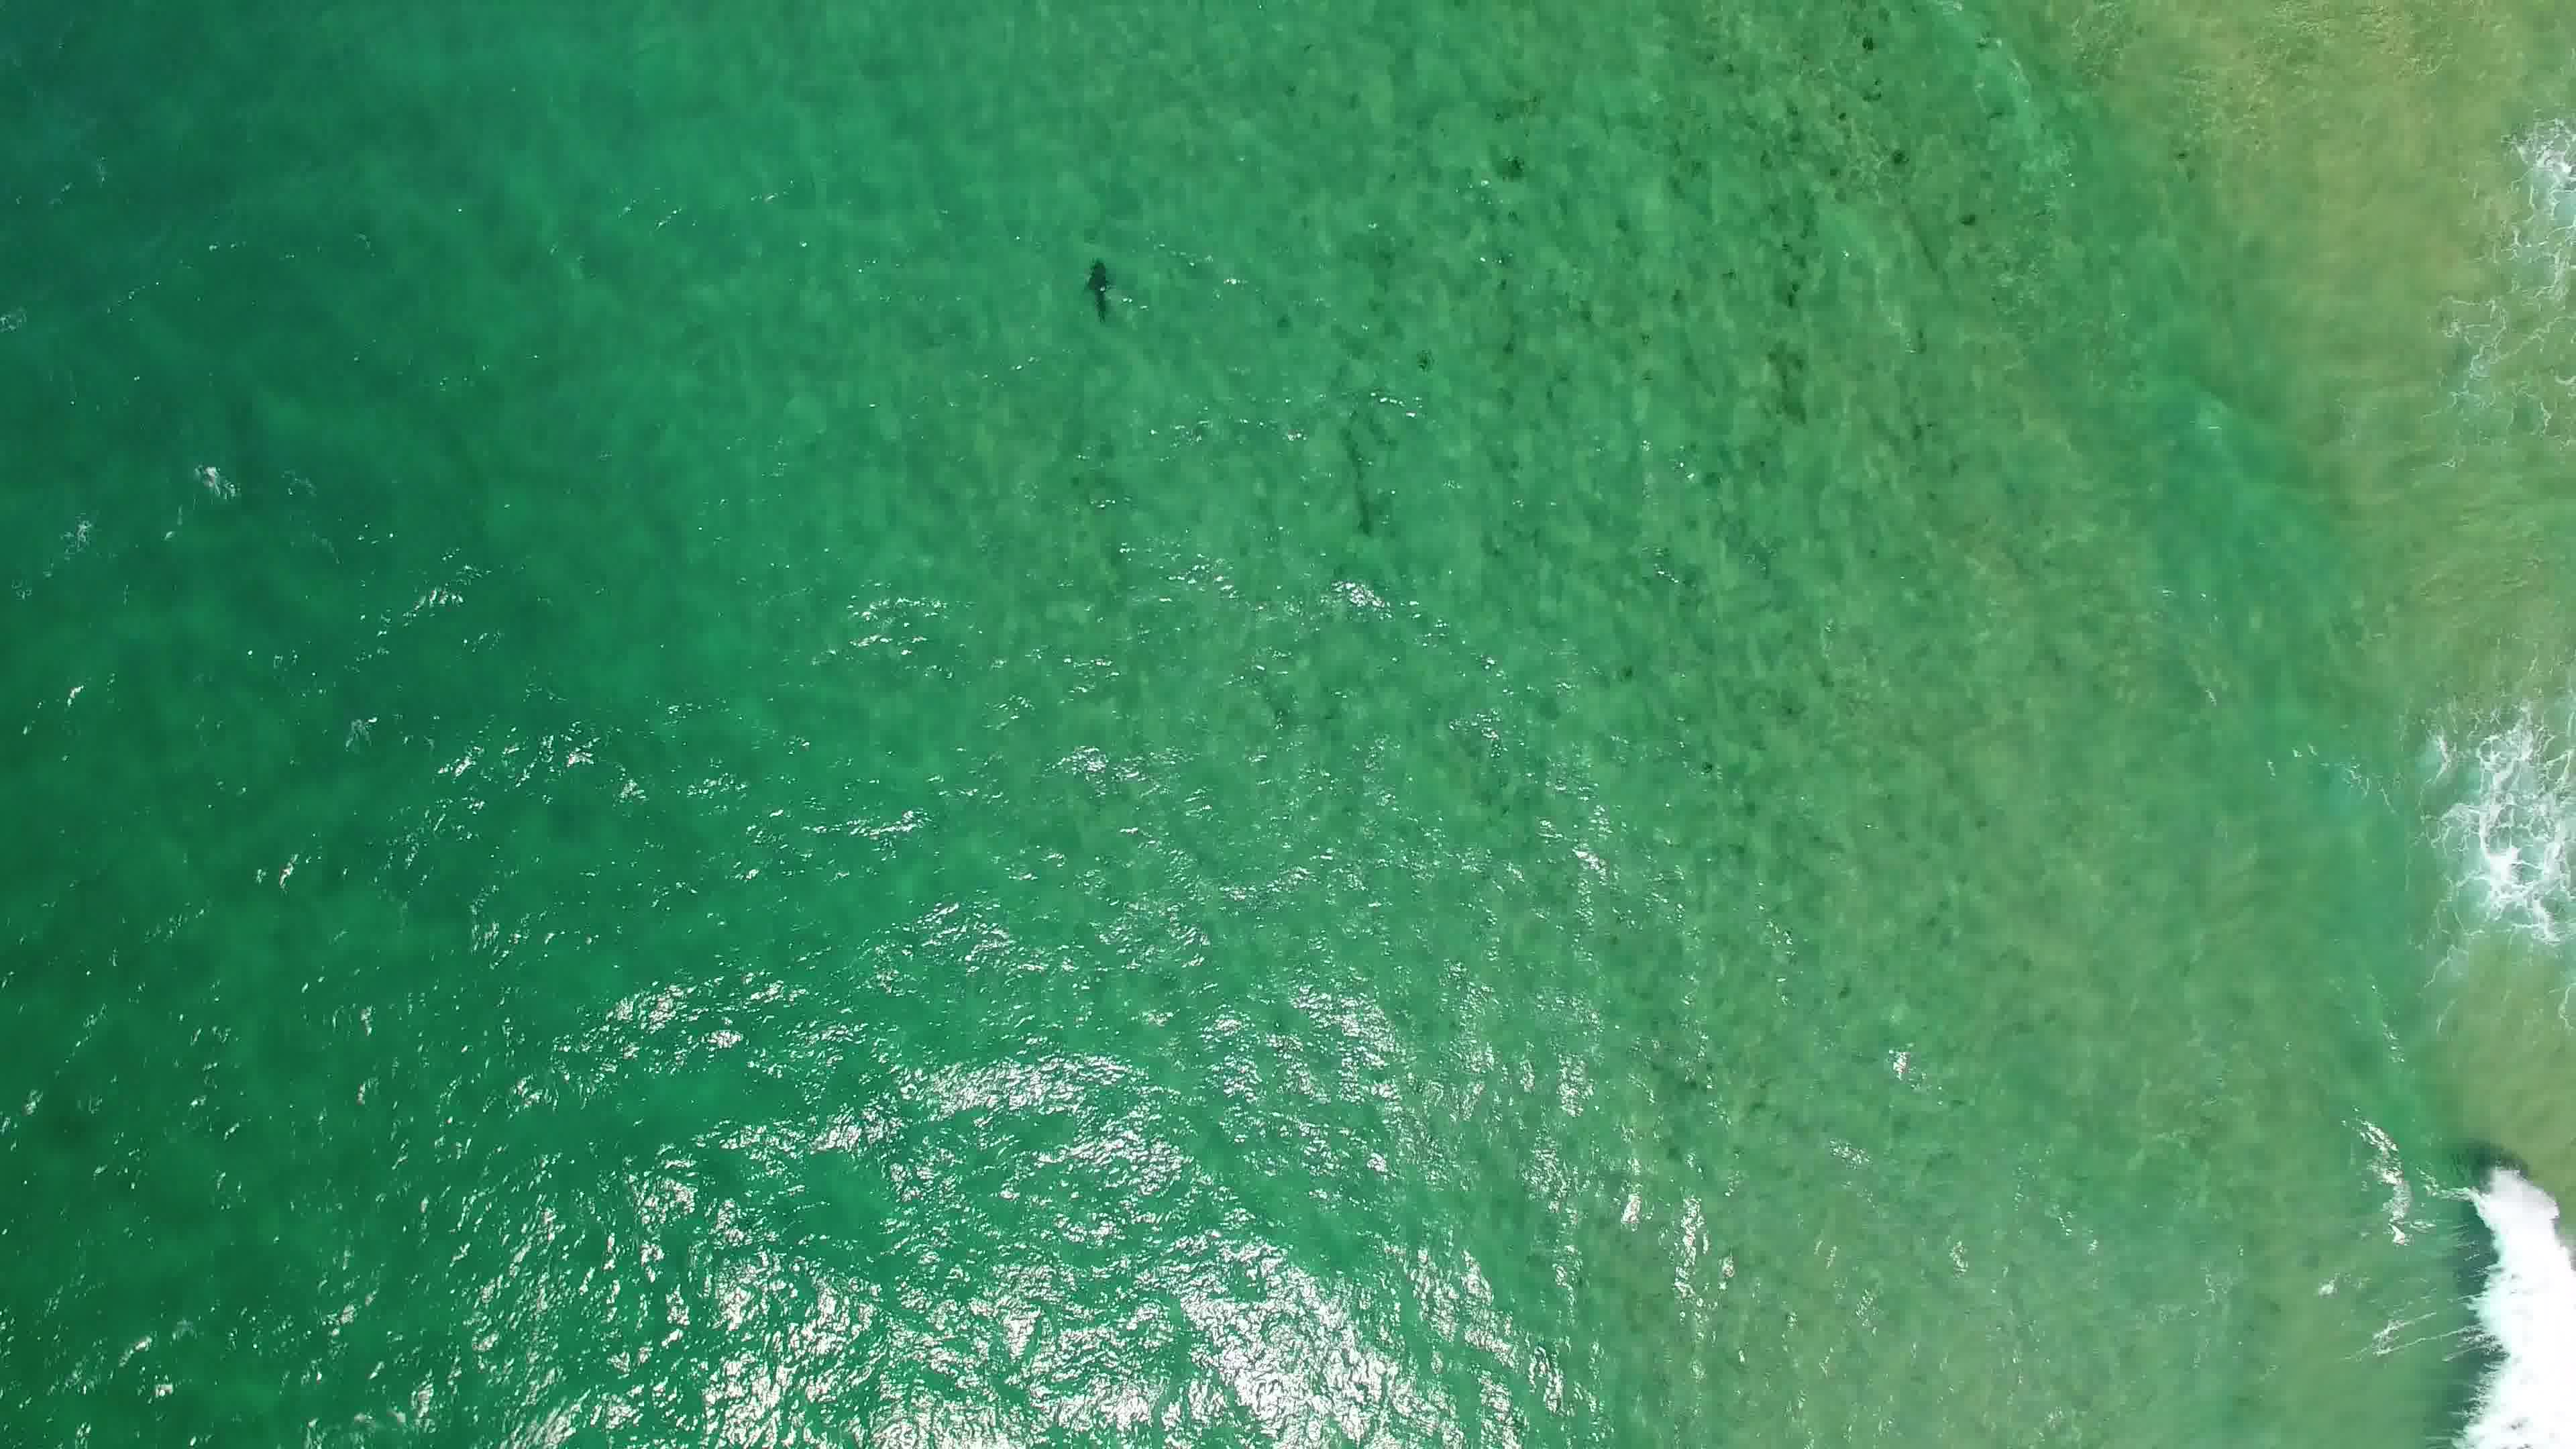shark: (1077, 253, 1118, 326)
